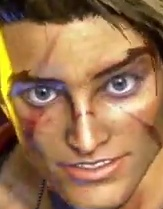kevin: (8, 4, 162, 208)
